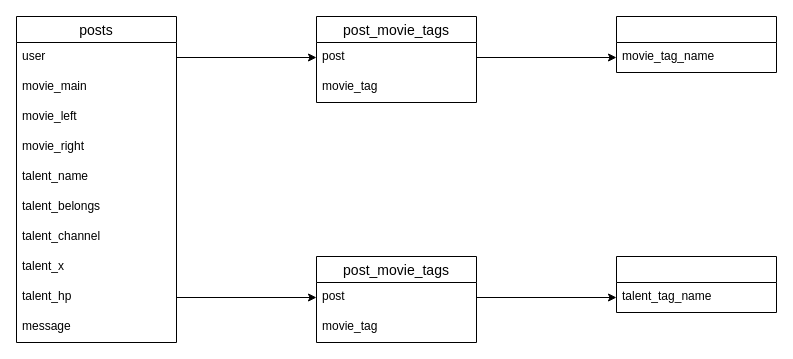
Image size: 793x359. Some labels were removed from this diagram. The shapes that lost their labels are listed below. From the top down, each one's box as (x1, y1, x2, y2) in pixels, then its label:
(616, 16, 776, 72): movie_tags
(616, 256, 776, 312): talent_tags
